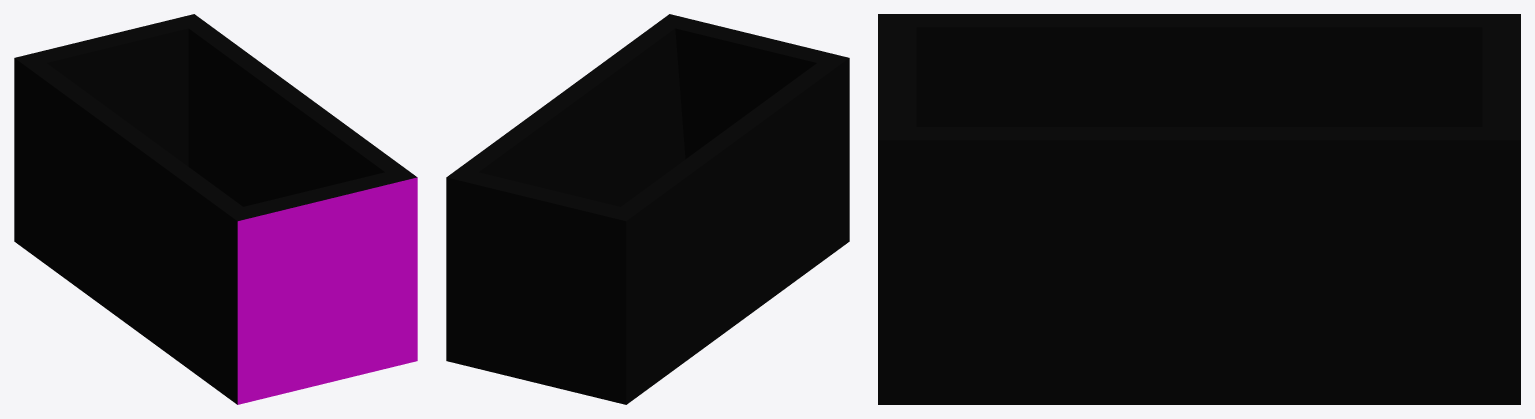
The model's file is single_drawer_no_handle.fbx.
3 renders of one model, left to right at view 1: azimuth 30°, elevation 25°; view 2: azimuth 150°, elevation 25°; view 3: azimuth 270°, elevation 25°, orthographic. The views are drawn at different scales.
Parts seen in each view (by area): view 1: pCube3; view 2: pCube3; view 3: pCube3.
Boxes of the visible parts, <box> form: pCube3: <box>14,14,417,404</box>; pCube3: <box>446,14,849,404</box>; pCube3: <box>878,14,1520,404</box>.
Bounding box in the file's own units: 1.85 × 1.8 × 3.97.
